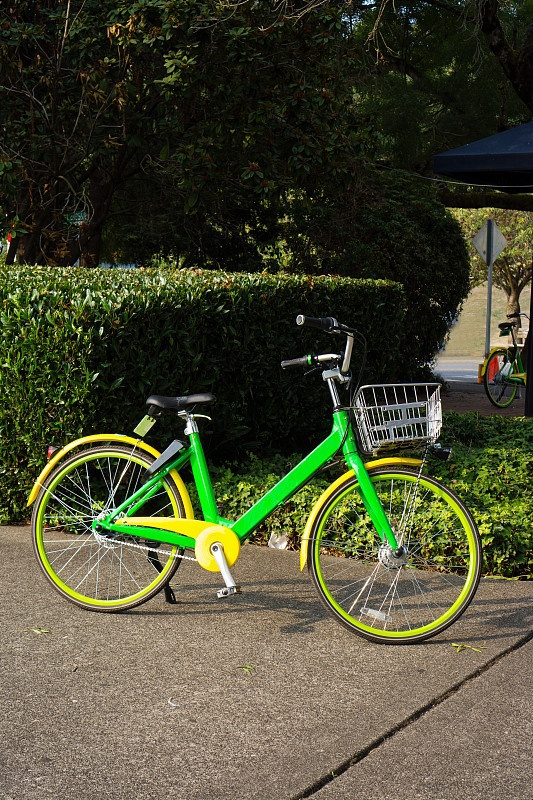non-vehicle: (26, 311, 484, 647), (484, 320, 526, 409)
